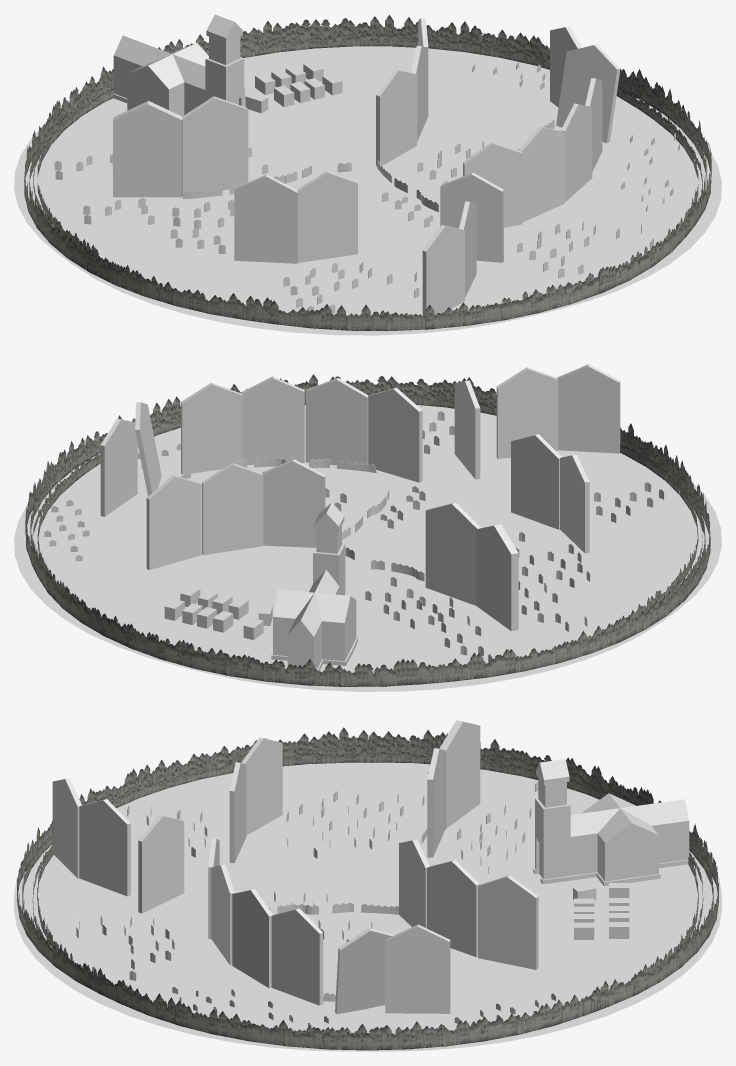
File: blockout.fbx
The picture shows the model from 3 angles, top to bottom: view 1: azimuth 30°, elevation 25°; view 2: azimuth 150°, elevation 25°; view 3: azimuth 270°, elevation 25°; orthographic projection.
Parts seen in each view (by area): view 1: Floor, Ring, Cube, Cube.001, Graves, Cube.002, Cube.016, Cube.015, Cube.012, Cube.010, Cube.005, Cube.007 (+7 smaller); view 2: Floor, Ring, Cube, Graves, Cube.014, Cube.004, Cube.010, Cube.008, Cube.009, Cube.005, Cube.002, Cube.003 (+9 smaller); view 3: Floor, Ring, Cube, Cube.006, Cube.003, Cube.008, Cube.013, Cube.004, Cube.012, Cube.007, Cube.001, Cube.009 (+9 smaller).
Part boxes in pixels (<box>): Floor: <box>14,46,721,335</box>; Ring: <box>24,15,711,331</box>; Cube: <box>113,14,244,116</box>; Cube.001: <box>113,101,182,197</box>; Graves: <box>54,62,679,313</box>; Cube.002: <box>182,96,248,195</box>; Cube.016: <box>234,174,297,263</box>; Cube.015: <box>297,171,357,262</box>; Cube.012: <box>440,172,503,262</box>; Cube.010: <box>518,126,564,222</box>; Cube.005: <box>376,69,417,165</box>; Cube.007: <box>556,44,620,143</box>; Floor: <box>14,405,721,691</box>; Ring: <box>25,374,710,686</box>; Cube: <box>271,502,357,671</box>; Graves: <box>44,411,664,662</box>; Cube.014: <box>557,364,620,453</box>; Cube.004: <box>202,463,263,555</box>; Cube.010: <box>305,378,368,465</box>; Cube.008: <box>181,383,242,474</box>; Cube.009: <box>241,376,304,464</box>; Cube.005: <box>262,459,325,547</box>; Cube.002: <box>425,502,481,605</box>; Cube.003: <box>146,475,201,570</box>; Floor: <box>14,762,721,1051</box>; Ring: <box>17,727,718,1050</box>; Cube: <box>533,759,689,886</box>; Cube.006: <box>385,924,450,1013</box>; Cube.003: <box>478,875,538,969</box>; Cube.008: <box>271,908,323,1005</box>; Cube.013: <box>79,799,130,896</box>; Cube.004: <box>427,860,479,957</box>; Cube.012: <box>138,815,184,913</box>; Cube.007: <box>335,928,395,1014</box>; Cube.001: <box>439,720,480,829</box>; Cube.009: <box>232,889,272,988</box>.
Bounding box in the file's own units: 6973 × 1289 × 6973.
